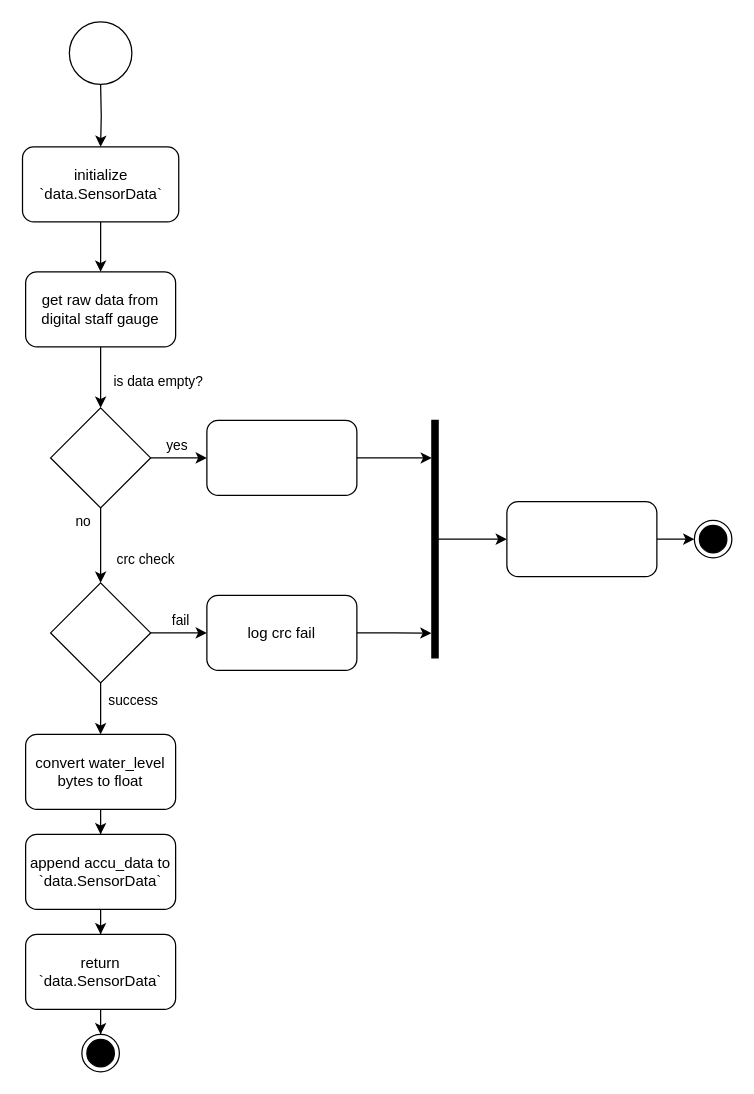
This 754x1094 diagram has some shape labels left out. The shapes that lost their labels are listed below. From the top down, each one's centre as x and y in pixels, then its label:
At point 100,52: "start".
At point 281,457: "log no data received".
At point 581,538: "return empty `data.SensorData`".
